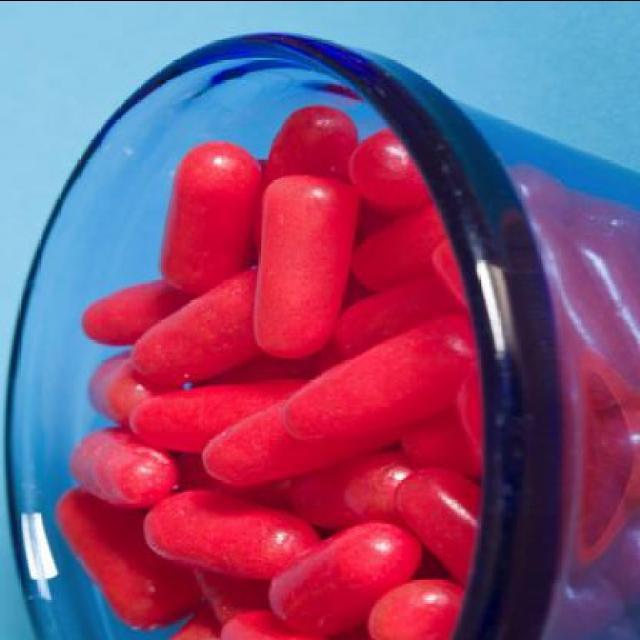Candy: (54, 17, 552, 614)
